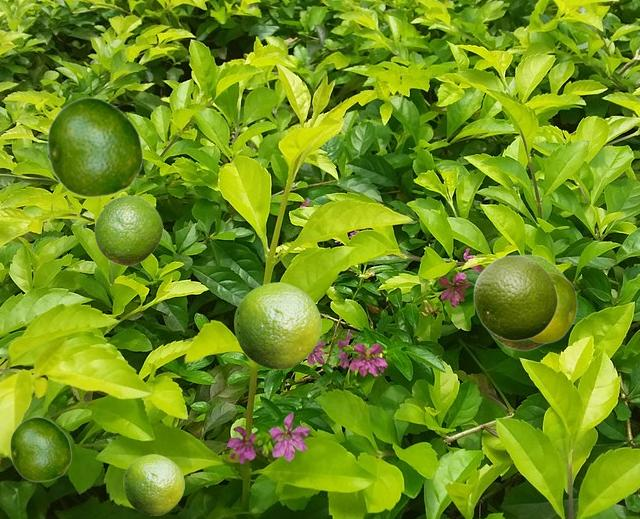calamansi: (46, 96, 143, 197), (487, 254, 566, 350), (234, 282, 320, 368), (473, 254, 557, 340), (94, 195, 162, 265), (9, 416, 71, 481), (123, 454, 183, 514), (530, 272, 576, 342)
